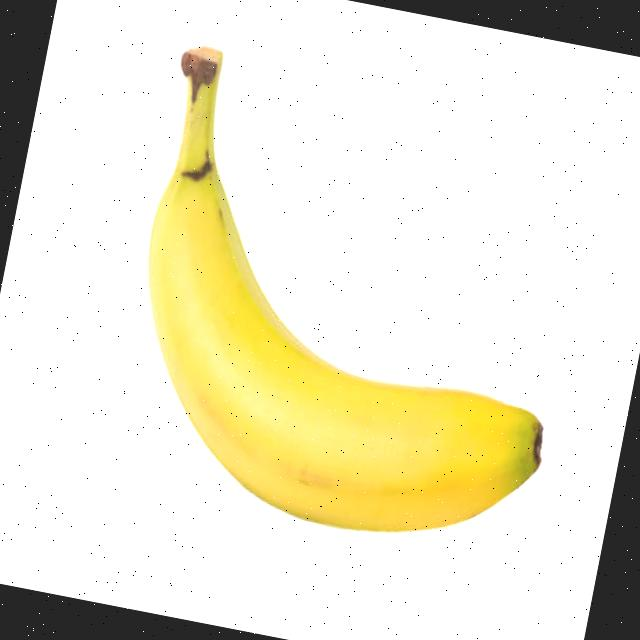Ripe: (97, 37, 610, 568)
